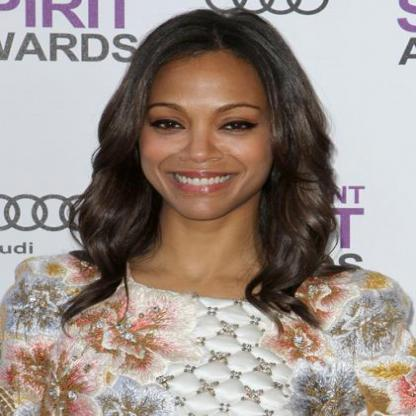long-hair: (51, 220, 354, 280)
